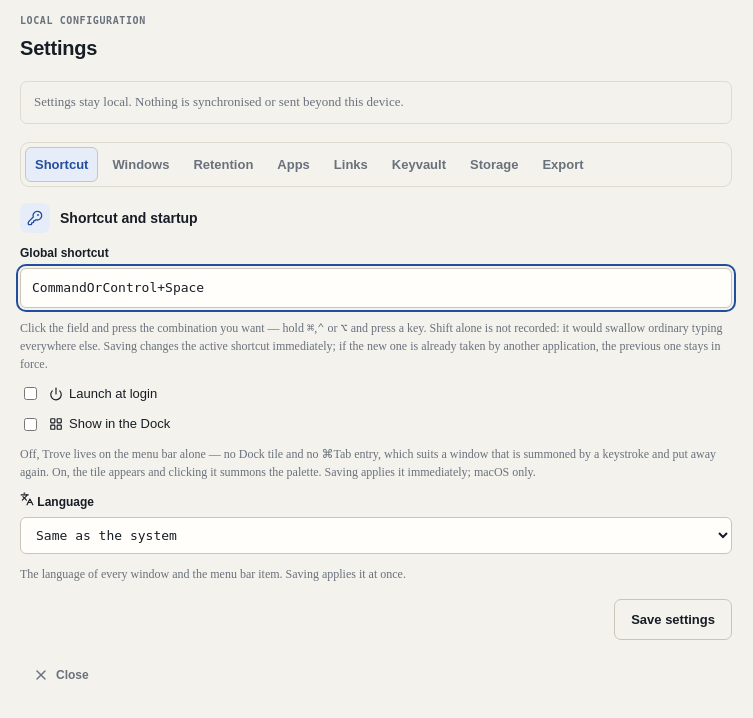
it: SettingsPanel validation and transactions › does not persist when the native autostart operation fails
Step 1. Click the checkbox labelled "Launch at login" → (30,394), box [24,387,37,400]
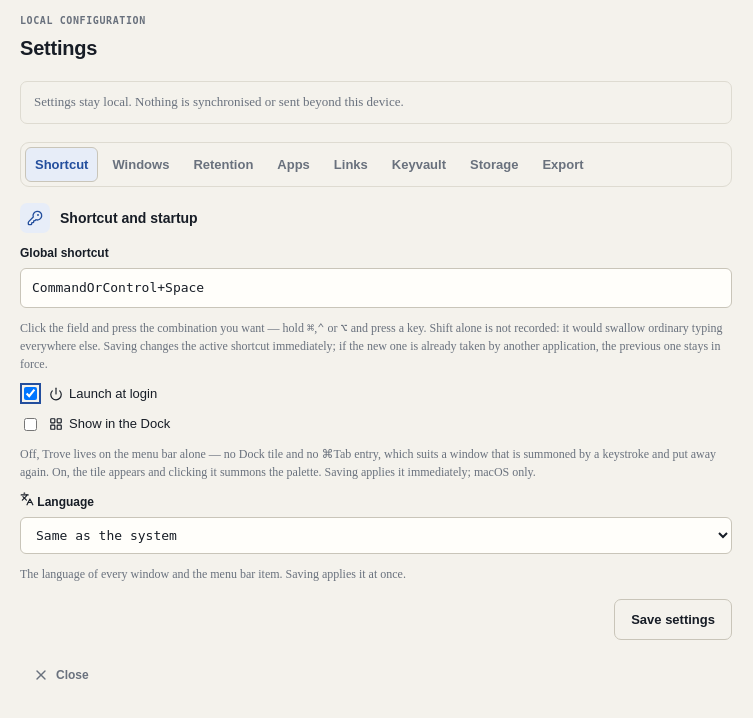
Step 2. Click the button "Save settings" → (673,620), box [614,599,732,640]
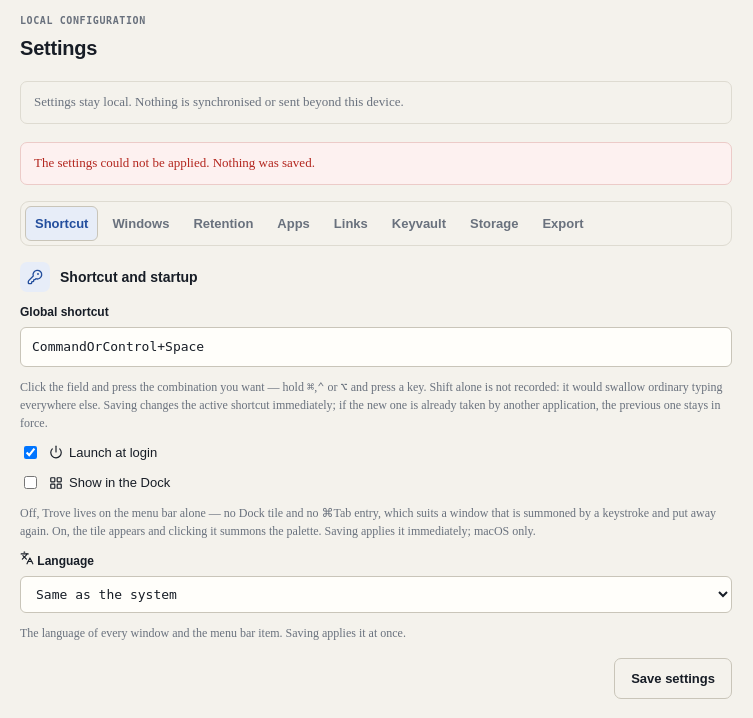
expect the message shows "The settings could not be applied": met, box [34,155,315,170]
